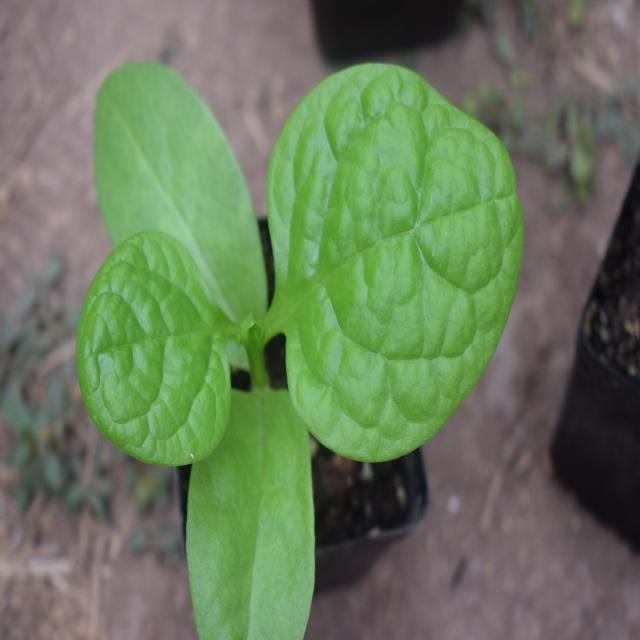Ceylon spinach: (91, 51, 549, 597)
